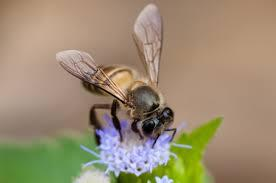Apis-mellifera-scutellata: (49, 0, 212, 158)
